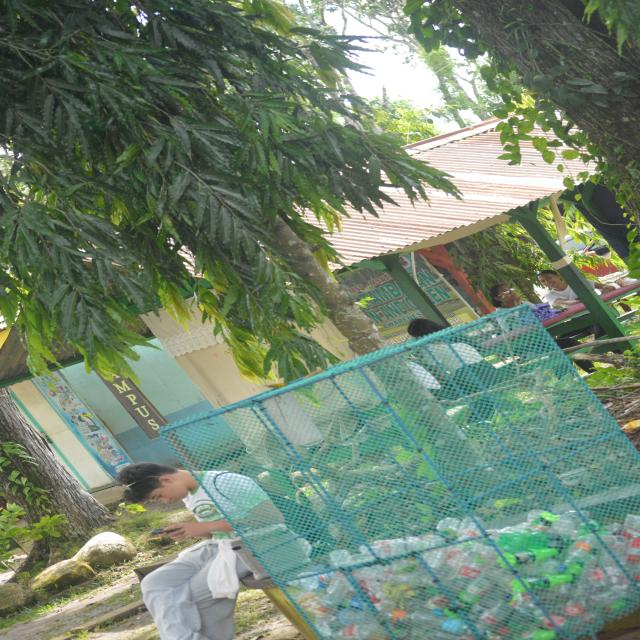person: (117, 463, 284, 639)
